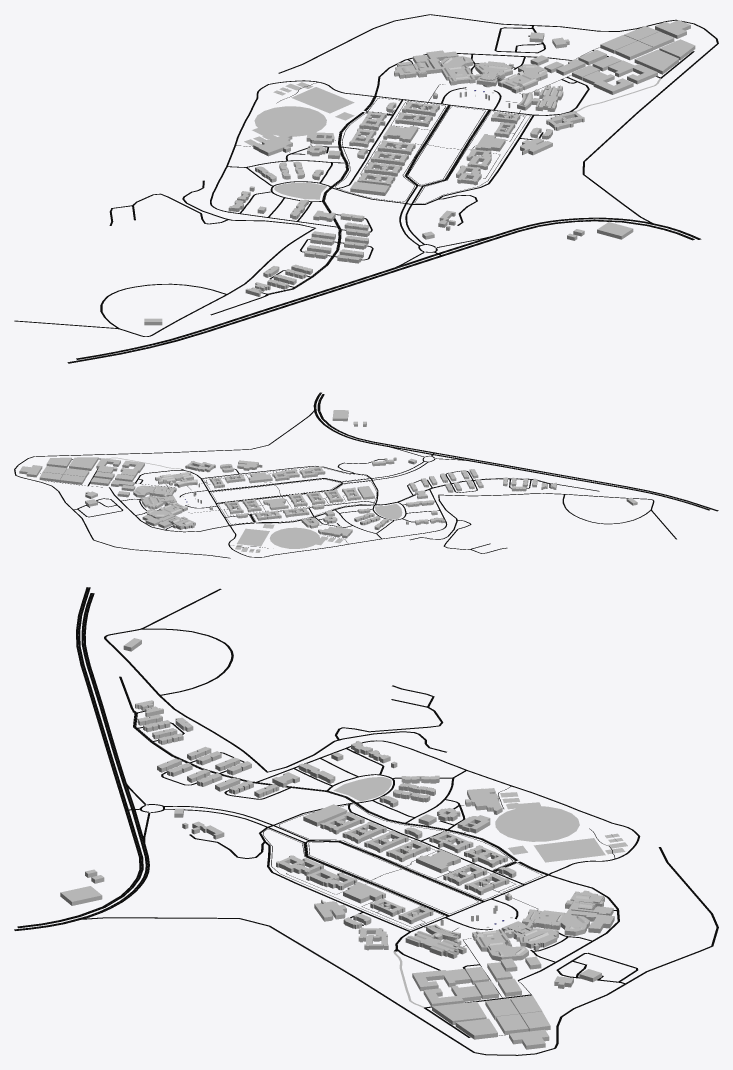
File: new_map.obj
3 renders of one model, top to bottom at view 1: azimuth 30°, elevation 25°; view 2: azimuth 150°, elevation 25°; view 3: azimuth 270°, elevation 25°, orthographic. The views are drawn at different scales.
Visible parts, largest first — view 1: Building851, Building930, SurfaceArea911, SoccerPitch910, Building850, SurfaceArea878, Building_DH5, Building920; view 2: Building851, Building930, SurfaceArea911, Building850, SoccerPitch910, SurfaceArea878, Building_DH5, Building920; view 3: Building851, SurfaceArea911, Building930, SoccerPitch910, Building850, SurfaceArea878, Building_DH5, Building920.
Boxes of the visible parts, x1=… form: Building851: x1=394, y1=50, x2=547, y2=89; Building930: x1=394, y1=53, x2=547, y2=93; SurfaceArea911: x1=254, y1=106, x2=326, y2=136; SoccerPitch910: x1=291, y1=87, x2=354, y2=113; Building850: x1=517, y1=84, x2=563, y2=111; SurfaceArea878: x1=274, y1=182, x2=326, y2=199; Building_DH5: x1=634, y1=49, x2=678, y2=74; Building920: x1=253, y1=134, x2=292, y2=156; Building851: x1=133, y1=485, x2=195, y2=527; Building930: x1=133, y1=485, x2=195, y2=529; SurfaceArea911: x1=269, y1=527, x2=320, y2=548; Building850: x1=155, y1=471, x2=197, y2=487; SoccerPitch910: x1=237, y1=528, x2=269, y2=546; SurfaceArea878: x1=375, y1=503, x2=402, y2=519; Building_DH5: x1=69, y1=457, x2=98, y2=470; Building920: x1=318, y1=525, x2=352, y2=538; Building851: x1=472, y1=890, x2=614, y2=957; SurfaceArea911: x1=495, y1=806, x2=579, y2=841; Building930: x1=472, y1=891, x2=614, y2=961; SoccerPitch910: x1=533, y1=838, x2=605, y2=862; Building850: x1=405, y1=924, x2=466, y2=958; SurfaceArea878: x1=333, y1=777, x2=391, y2=801; Building_DH5: x1=432, y1=1001, x2=486, y2=1024; Building920: x1=465, y1=788, x2=502, y2=814.
Size of the model in its own units: 1837 by 22.15 by 1168.
